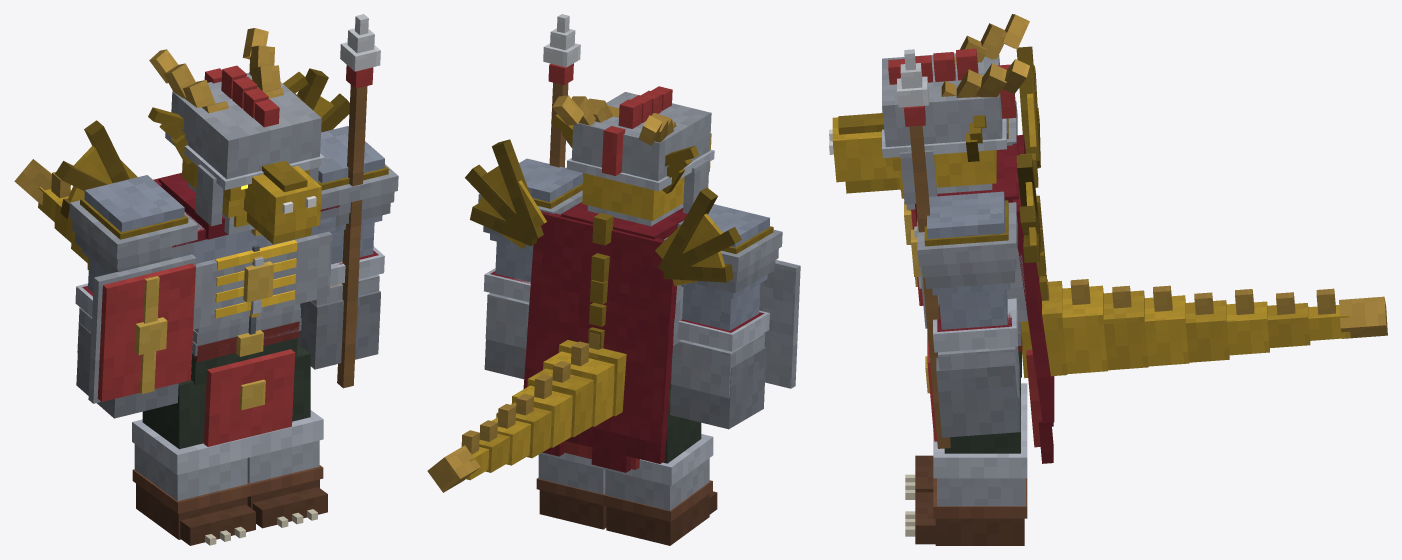
The model's file is dragonoid_garde_v2.glb.
3 views of the same model, side by side, from view 1: azimuth 30°, elevation 25°; view 2: azimuth 150°, elevation 25°; view 3: azimuth 270°, elevation 25° (orthographic). The views are drawn at different scales.
Parts seen in each view (by area): view 1: Torso, ArmR, Head, LegR, ArmL, LegL, HandL, Root; view 2: Torso, ArmR, Head, LegR, ArmL, LegL, HandL; view 3: Torso, ArmL, Head, LegL, HandL, LegR, ArmR.
Part boxes in pixels (x1,y1,x2,y2): Torso: [14, 68, 349, 446]; ArmR: [69, 175, 197, 418]; Head: [148, 28, 324, 244]; LegR: [132, 380, 255, 545]; ArmL: [297, 126, 398, 369]; LegL: [247, 344, 327, 528]; HandL: [337, 14, 380, 388]; Root: [205, 509, 317, 545]; Torso: [427, 139, 741, 492]; ArmR: [664, 204, 800, 429]; Head: [551, 86, 714, 226]; LegR: [603, 389, 717, 545]; ArmL: [478, 158, 583, 379]; LegL: [536, 452, 606, 529]; HandL: [543, 14, 580, 167]; Torso: [911, 46, 1387, 463]; ArmL: [917, 191, 1020, 437]; Head: [829, 14, 1029, 209]; LegL: [915, 377, 1027, 545]; HandL: [897, 49, 950, 448]; LegR: [915, 383, 1027, 492]; ArmR: [904, 100, 1017, 305].
Size of the model in its own units: 1.44 by 2.21 by 2.2.
Materials: 48 (48 with a texture image).
